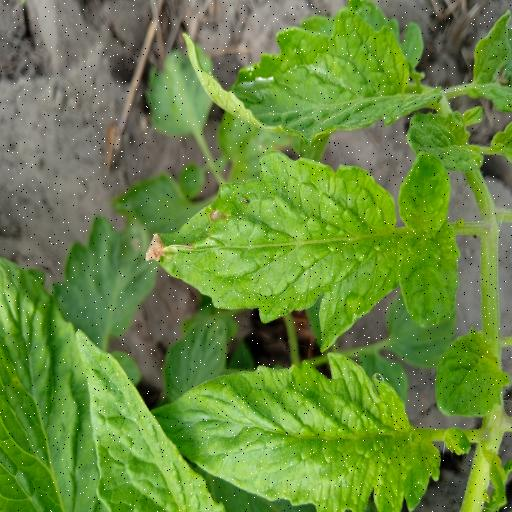Tomato_Mosaic: (142, 149, 412, 355), (140, 355, 451, 512), (178, 0, 430, 147)
